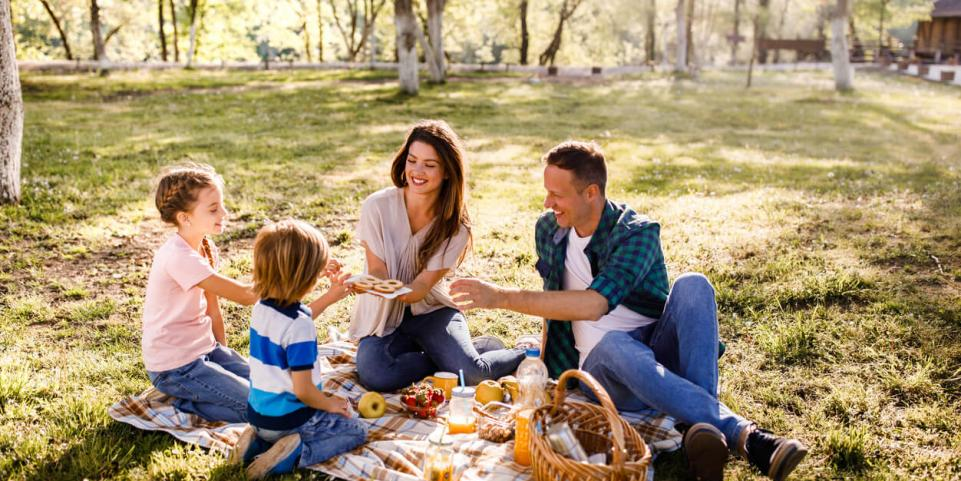without_mask: (542, 170, 586, 230), (402, 143, 442, 194), (197, 187, 230, 237)
